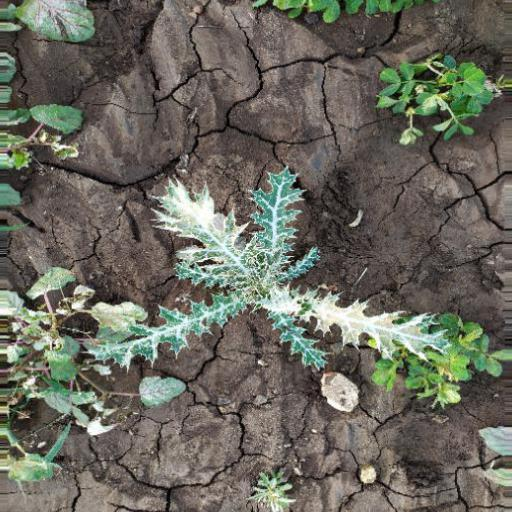weed: (99, 178, 500, 434), (1, 260, 108, 479), (1, 1, 91, 214), (358, 42, 498, 147)
